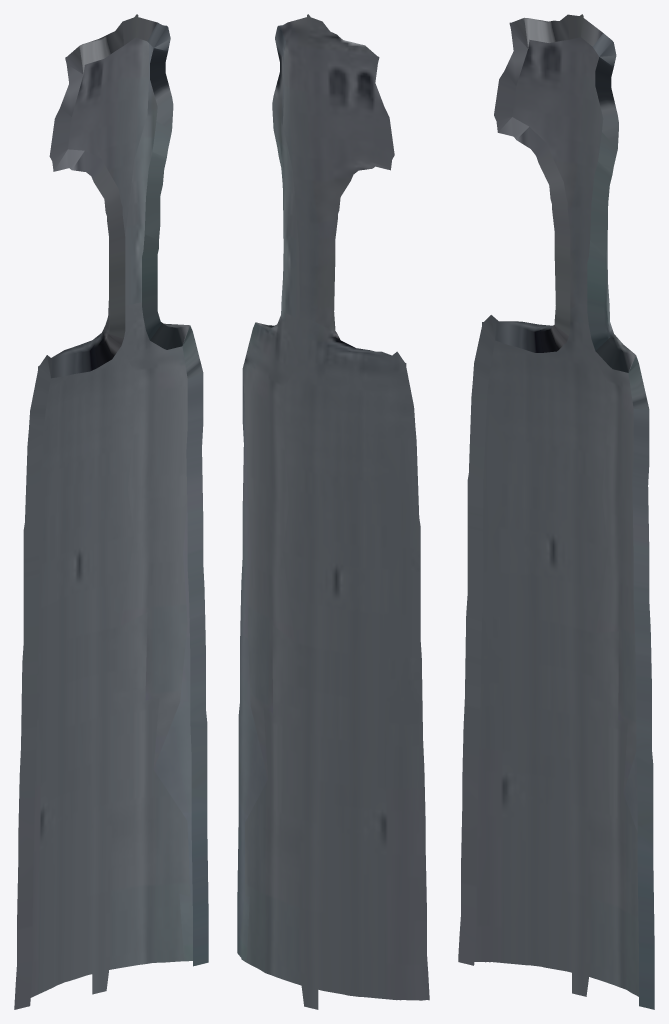
The model's file is z20-167754-405195-h1-yup-uvflip-v3-world.glb.
The picture shows the model from 3 angles, left to right: view 1: azimuth 30°, elevation 25°; view 2: azimuth 150°, elevation 25°; view 3: azimuth 330°, elevation 25°; orthographic projection. The views are drawn at different scales.
Bounding box in the file's own units: 5.96 × 28.96 × 0.96.
Materials: 1 (1 with a texture image).
